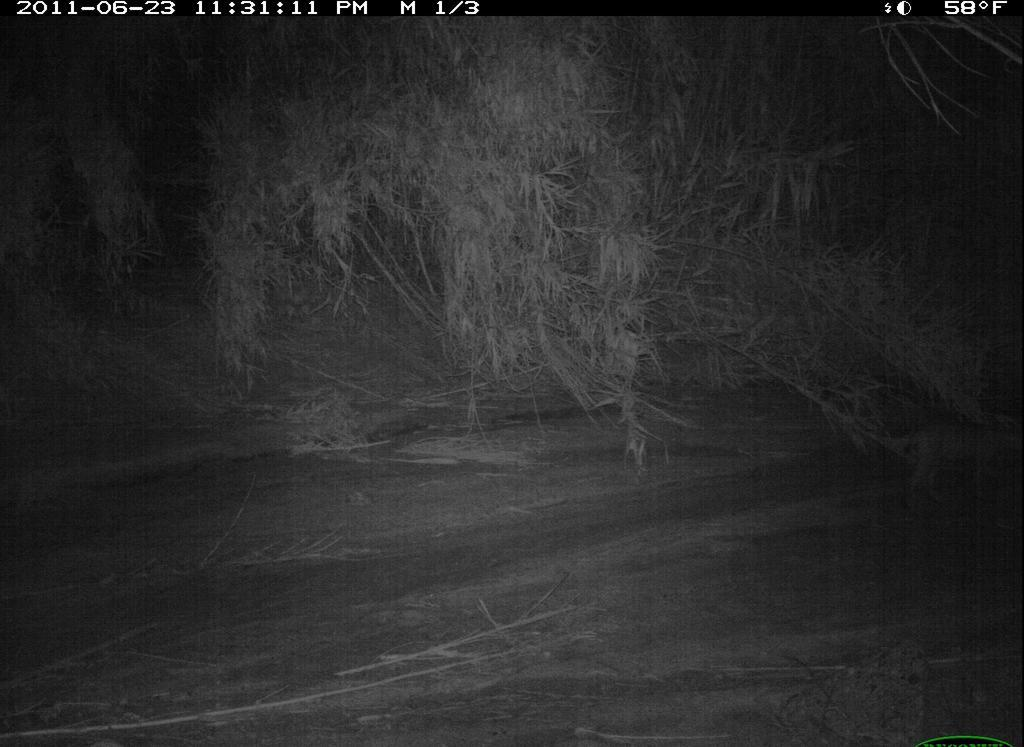bobcat: (875, 383, 1023, 523)
